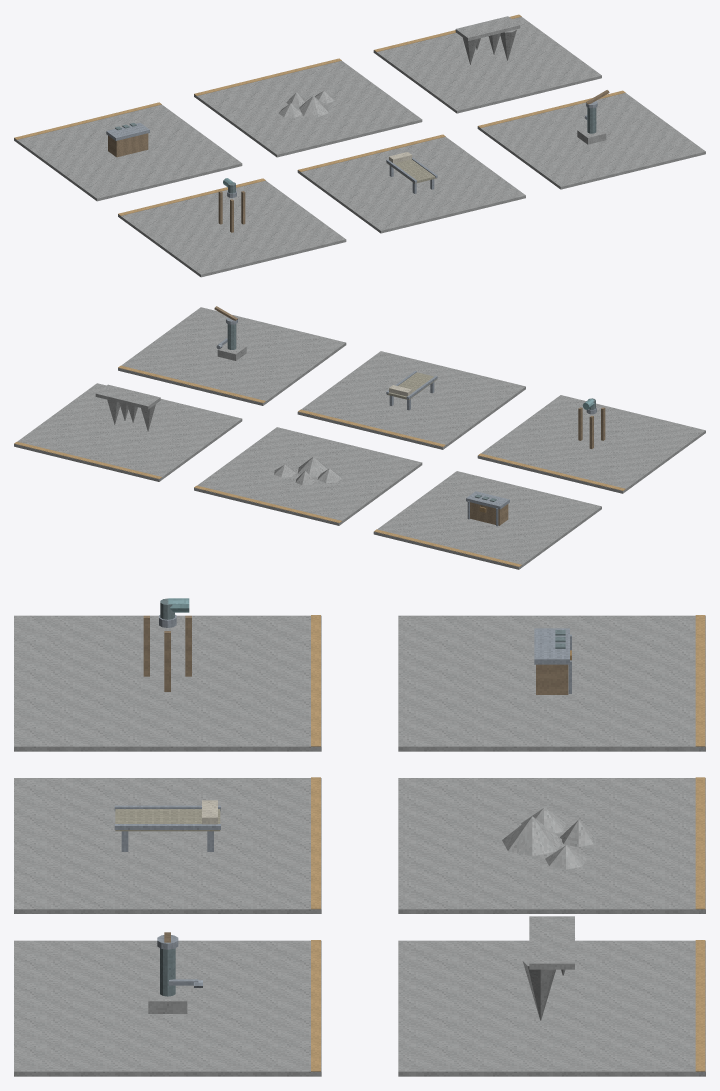
File: level_blockout_kit_wld_05_p04.glb
3 renders of one model, top to bottom at view 1: azimuth 30°, elevation 25°; view 2: azimuth 150°, elevation 25°; view 3: azimuth 270°, elevation 25°, orthographic. The views are drawn at different scales.
Visible parts, largest first — view 1: level_blockout_kit_wld_05_p04; view 2: level_blockout_kit_wld_05_p04; view 3: level_blockout_kit_wld_05_p04.
Boxes of the visible parts, <box> form: level_blockout_kit_wld_05_p04: <box>14,14,705,277</box>; level_blockout_kit_wld_05_p04: <box>14,306,705,569</box>; level_blockout_kit_wld_05_p04: <box>14,598,705,1076</box>.
Bounding box in the file's own units: 19.65 × 1.76 × 12.6.
Materials: 9 (9 with a texture image).
